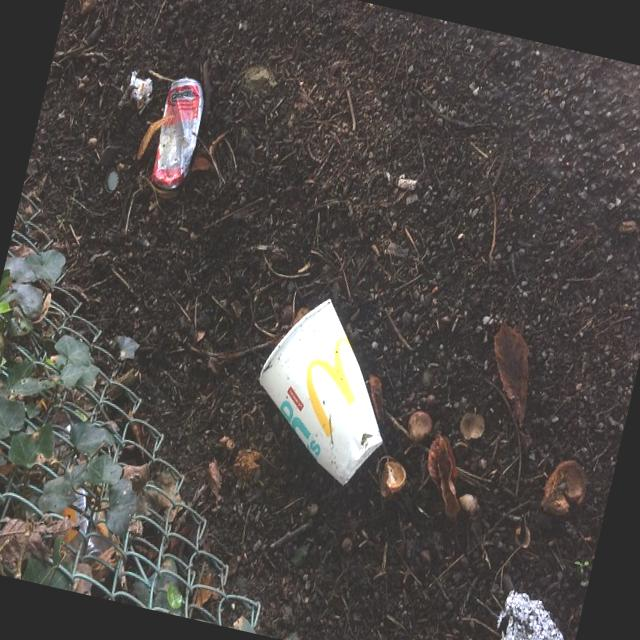Recycle: (485, 579, 576, 640)
Trash: (238, 287, 411, 493), (140, 67, 212, 192), (126, 70, 155, 104)
